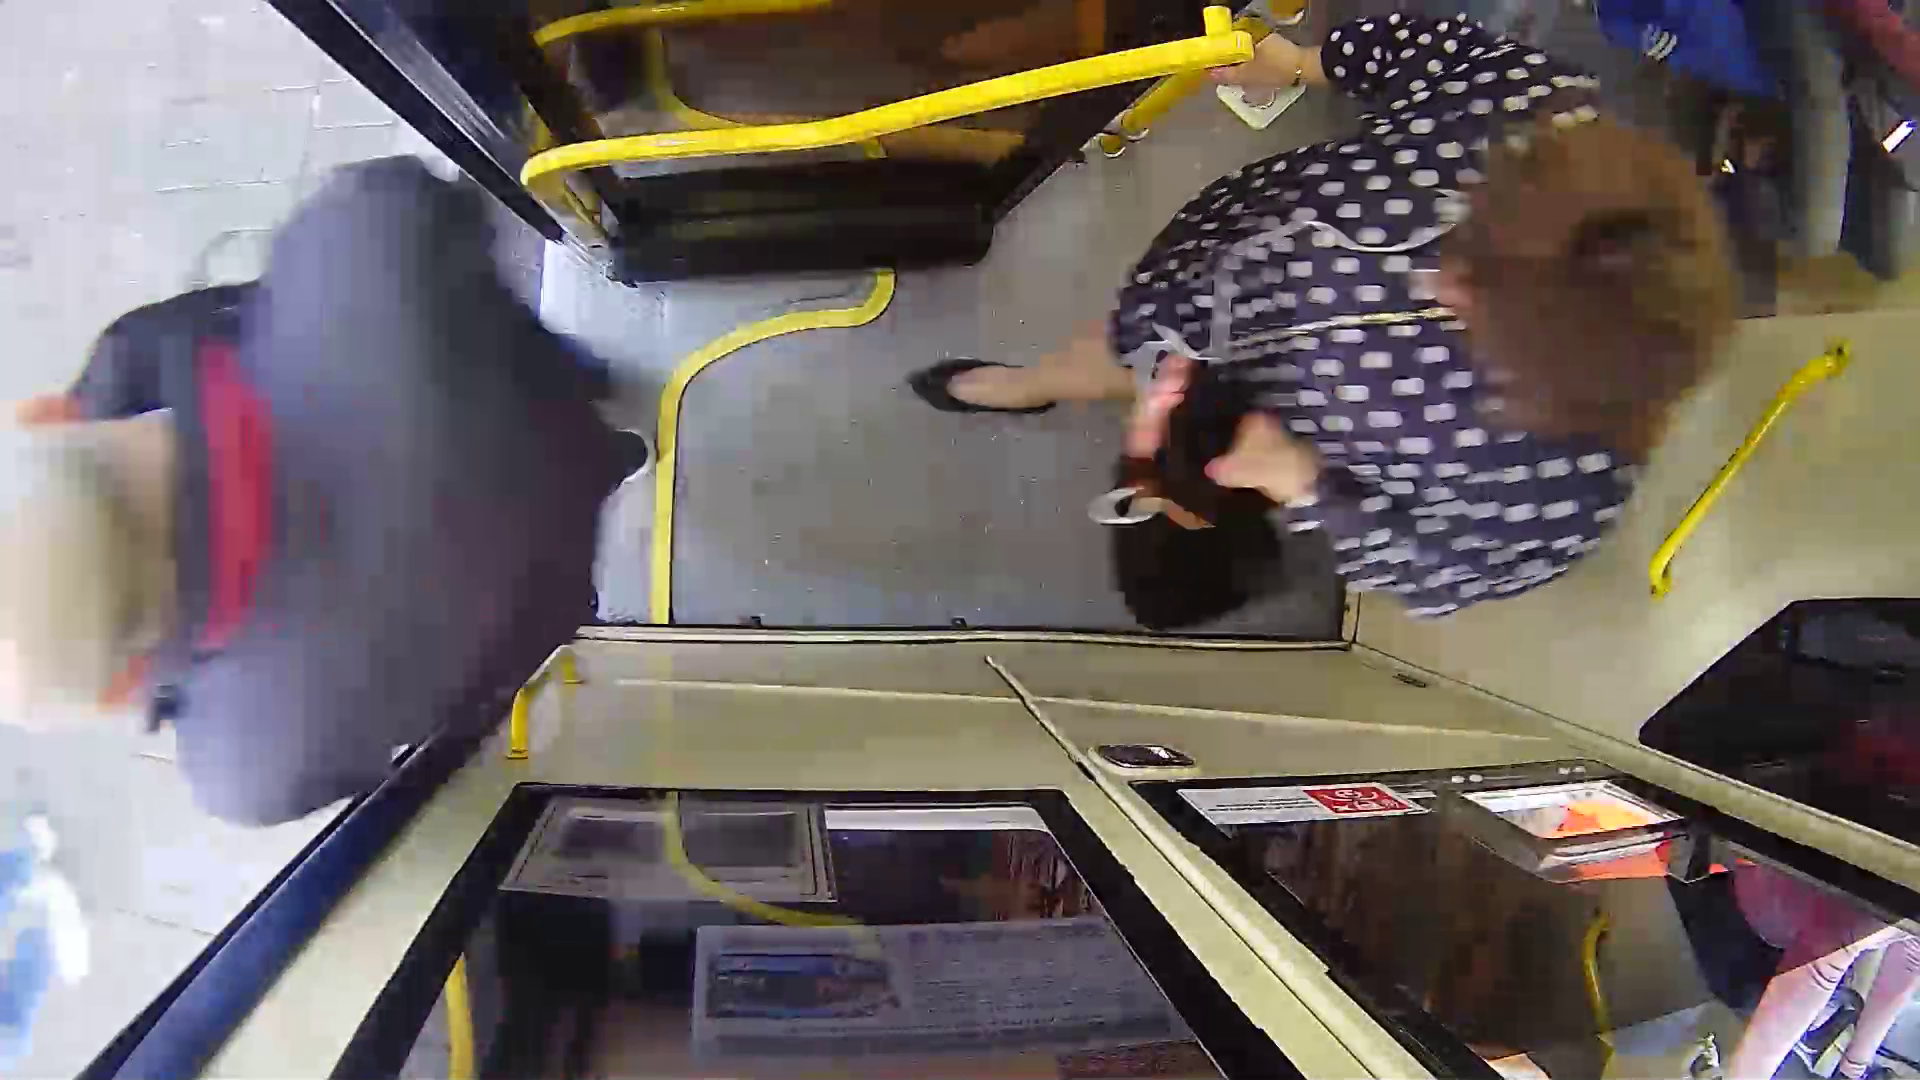person: (7, 236, 696, 814), (1071, 54, 1737, 649)
